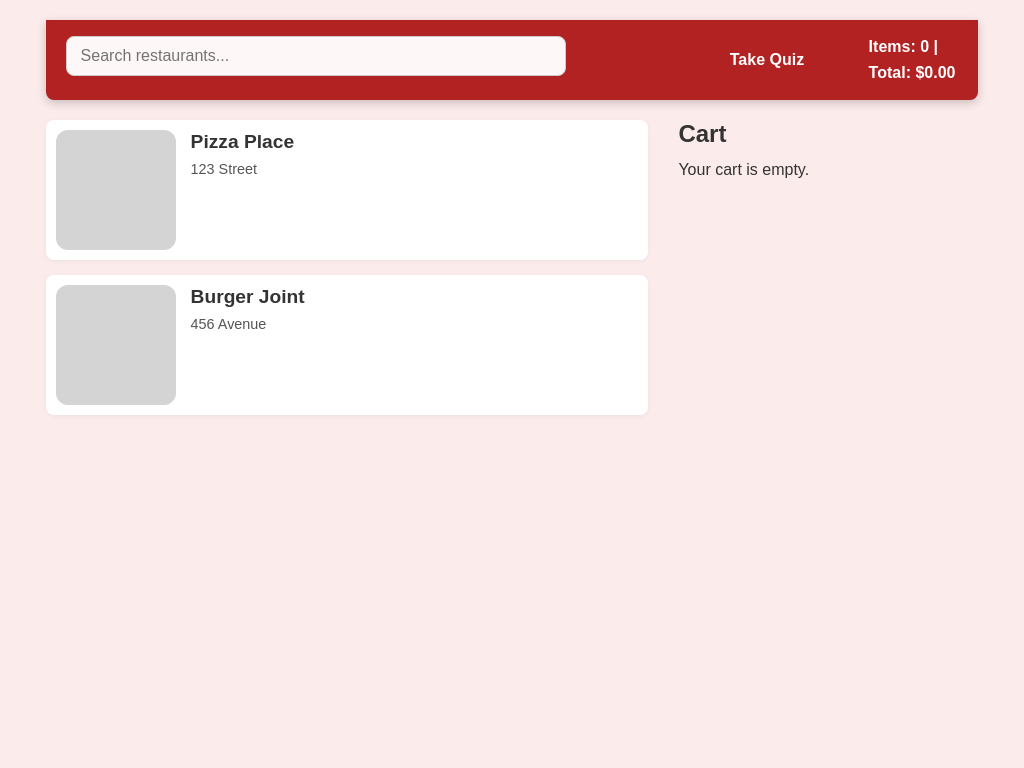
Test case: Browse Component - coverage tests › menu search input filters menu correctly
This screenshot has width=1024, height=768.
Click the heading "Pizza Place".
click(242, 142)  # box [191, 131, 294, 152]
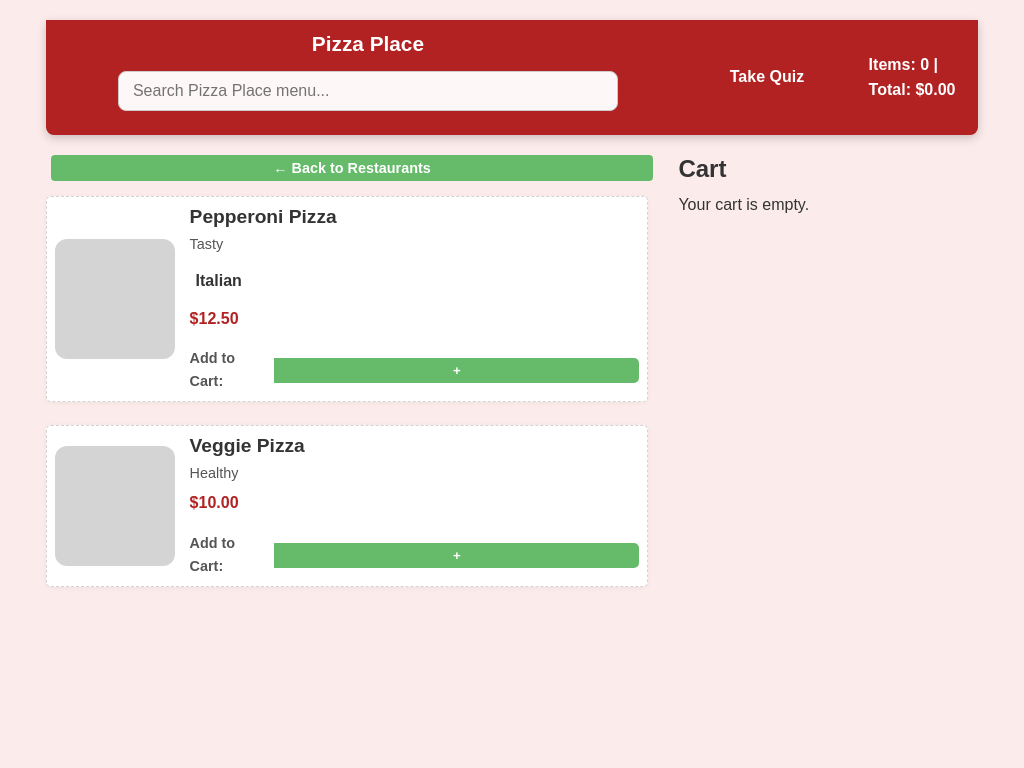
Expected: the heading "Pepperoni Pizza" is shown, [190, 206, 337, 227]
Type "Veggie" into the field with placeholder "Search Pizza Place menu...".
click(368, 91); type("Veggie")  # box [118, 71, 618, 111]
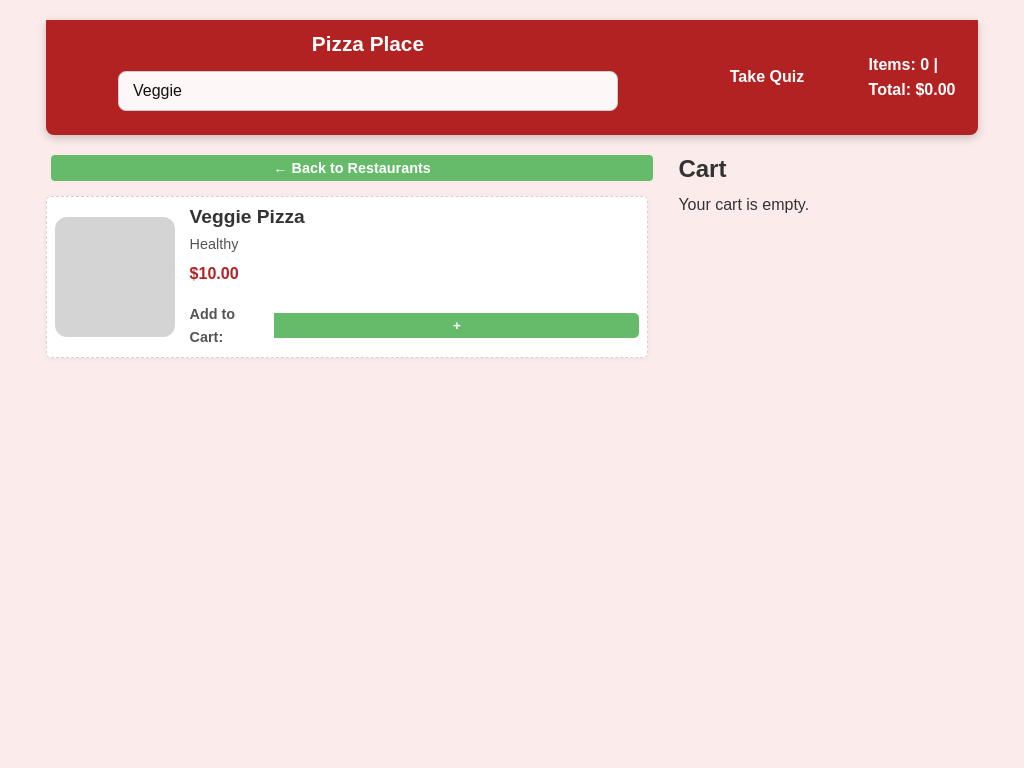
Expected: the heading "Veggie Pizza" is shown, [190, 206, 305, 227]
Expected: the heading "Pepperoni Pizza" is gone
